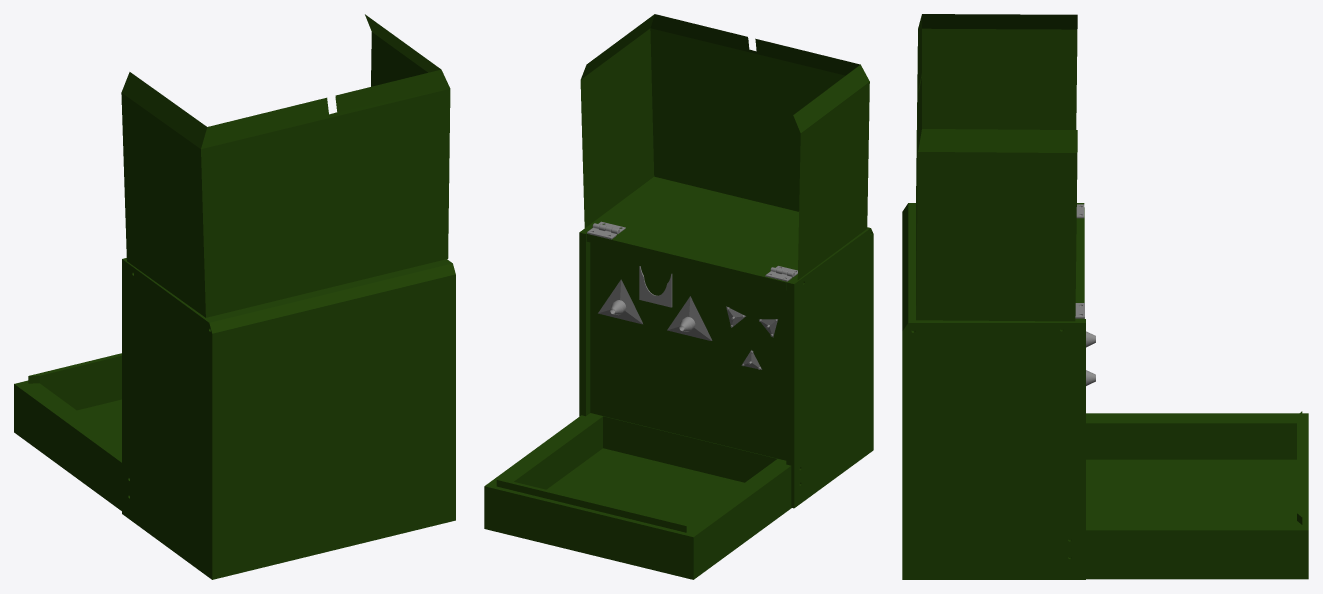
Rendered from transformer.glb.
The picture shows the model from 3 angles, left to right: view 1: azimuth 30°, elevation 25°; view 2: azimuth 150°, elevation 25°; view 3: azimuth 270°, elevation 25°; orthographic projection. The views are drawn at different scales.
Visible parts, largest first — view 1: Cube, Cube.002, Cube.001; view 2: Cube.002, Cube, Cube.001, Cone, Cone.002, Cube.004; view 3: Cube, Cube.002, Cube.001.
Part boxes in pixels (x1=…): Cube: x1=122, y1=258, x2=455, y2=579; Cube.002: x1=121, y1=14, x2=450, y2=317; Cube.001: x1=14, y1=353, x2=121, y2=510; Cube.002: x1=580, y1=14, x2=869, y2=280; Cube: x1=579, y1=227, x2=873, y2=508; Cube.001: x1=484, y1=413, x2=791, y2=579; Cone: x1=598, y1=279, x2=642, y2=324; Cone.002: x1=667, y1=296, x2=712, y2=340; Cube.004: x1=639, y1=266, x2=672, y2=307; Cube: x1=902, y1=203, x2=1085, y2=579; Cube.002: x1=916, y1=14, x2=1077, y2=321; Cube.001: x1=1068, y1=411, x2=1308, y2=579.
Size of the model in its own units: 9.55 by 16.25 by 13.31.
